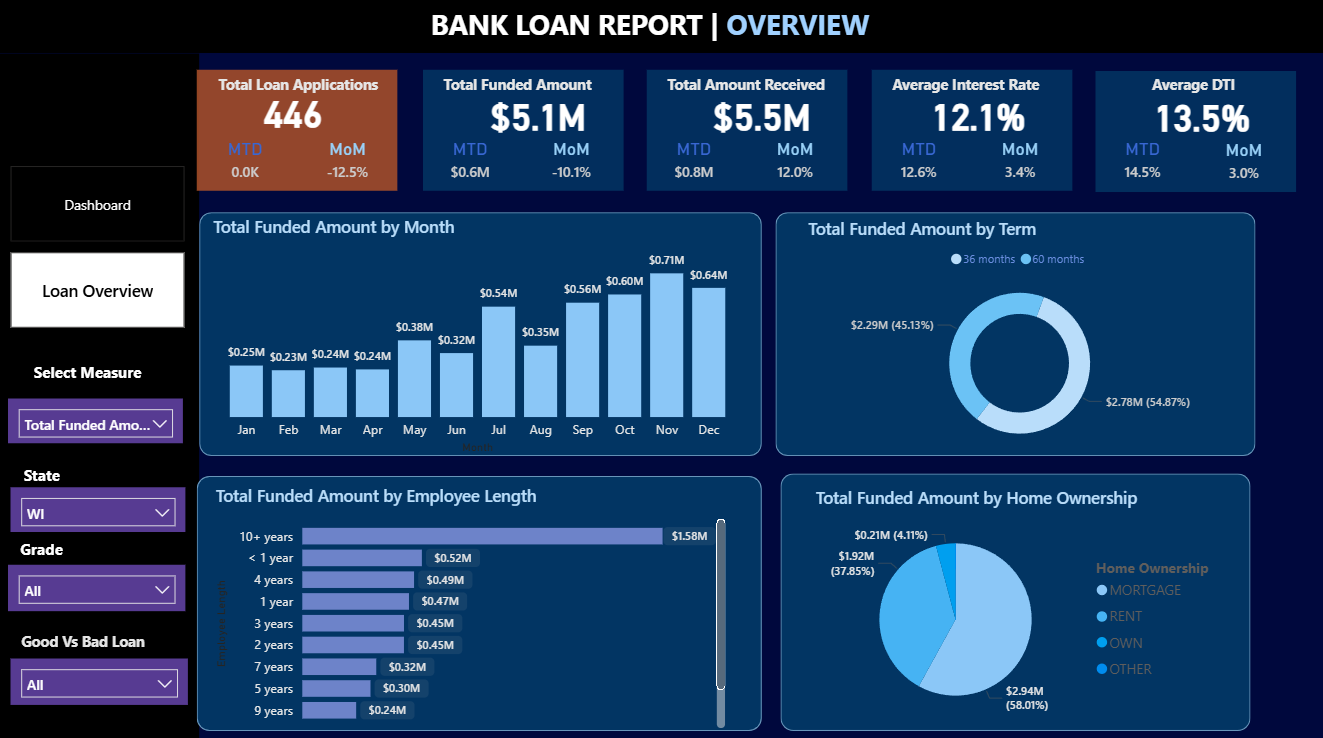

What the dashboard file says about the page in this screenshot:
{"tool":"powerbi","page":{"name":"Loan Overview","canvas":[1280,720],"ordinal":1},"visuals":[{"type":"shape","box":[0,55.5,194.2,664.5],"z":0},{"type":"shape","box":[410.2,71.3,193.7,117],"z":0,"group":"g3"},{"type":"shape","box":[626.7,71.3,193.7,117],"z":0,"group":"g4"},{"type":"shape","box":[843.2,71.3,193.7,117],"z":0,"group":"g5"},{"type":"shape","box":[192.3,71.4,193.7,117],"z":0,"group":"g1"},{"type":"shape","box":[1059.7,71.9,193.7,117],"z":0,"group":"g6"},{"type":"shape","box":[0,0,1280.3,55],"z":1000},{"type":"card","fields":{"Values":["bank_loan_data.Total Loan Application"]},"box":[228.8,76.7,113.6,69.9],"z":1000,"group":"g1"},{"type":"card","fields":{"Values":["bank_loan_data.Total Funded Amount"]},"box":[447.1,82,147.9,64.6],"z":1000,"group":"g3"},{"type":"card","fields":{"Values":["bank_loan_data.Total Amount Received"]},"box":[663.6,82,147.9,64.6],"z":1000,"group":"g4"},{"type":"card","fields":{"Values":["bank_loan_data.Avg Interest Rate"]},"box":[872.1,82.5,147.9,64.6],"z":1000,"group":"g5"},{"type":"card","fields":{"Values":["bank_loan_data.Avg DTI"]},"box":[1088.6,83.1,147.9,64.6],"z":1000,"group":"g6"},{"type":"textbox","box":[204.7,71.3,197.8,40.3],"z":2000,"group":"g1"},{"type":"textbox","box":[420.9,71.3,197.8,40.3],"z":2000,"group":"g3"},{"type":"textbox","box":[637.4,71.3,197.8,40.3],"z":2000,"group":"g4"},{"type":"textbox","box":[853.9,71.3,197.8,40.3],"z":2000,"group":"g5"},{"type":"textbox","box":[1070.1,71.3,169.4,40.3],"z":2000,"group":"g6"},{"type":"textbox","box":[21.7,347.3,136.3,41],"z":2000,"group":"g8"},{"type":"textbox","box":[12.1,447.4,95.3,31.4],"z":2000,"group":"g7"},{"type":"textbox","box":[12.1,517.4,83.2,31.4],"z":2000},{"type":"card","title":"MTD","fields":{"Values":["bank_loan_data.MTD Loan Applications"]},"box":[204.7,137.2,69.5,51.1],"z":3000,"group":"g1"},{"type":"card","title":"MTD","fields":{"Values":["bank_loan_data.MTD Funded Applications"]},"box":[420.9,137.2,69.5,51.1],"z":3000,"group":"g3"},{"type":"card","title":"MTD","fields":{"Values":["bank_loan_data.MTD Total Amount Received"]},"box":[637.4,137.2,69.5,51.1],"z":3000,"group":"g4"},{"type":"card","title":"MTD","fields":{"Values":["bank_loan_data.MTD Average Interest Rate"]},"box":[853.9,137.2,69.5,51.1],"z":3000,"group":"g5"},{"type":"card","title":"MTD","fields":{"Values":["bank_loan_data.MTD Average DTI"]},"box":[1070.4,137.8,69.5,51.1],"z":3000,"group":"g6"},{"type":"textbox","box":[9.6,607.8,156.8,31.4],"z":3000},{"type":"group","id":"g1","title":"Group 2","box":[192.3,71.3,210.2,117.1],"z":3005,"group":"g2"},{"type":"card","title":"MoM","fields":{"Values":["bank_loan_data.MoM Loan Applications"]},"box":[303,138.2,69.5,49.8],"z":4000,"group":"g1"},{"type":"card","title":"MoM","fields":{"Values":["bank_loan_data.MoM Total Funded Amount"]},"box":[519.1,138.2,69.5,49.8],"z":4000,"group":"g3"},{"type":"card","title":"MoM","fields":{"Values":["bank_loan_data.MoM Total Amount Received"]},"box":[735.6,138.2,69.5,49.8],"z":4000,"group":"g4"},{"type":"card","title":"MoM","fields":{"Values":["bank_loan_data.MoM Average Interest Rate"]},"box":[952.1,138.2,69.5,49.8],"z":4000,"group":"g5"},{"type":"card","title":"MoM","fields":{"Values":["bank_loan_data.MoM Average DTI"]},"box":[1168.6,138.9,69.5,49.8],"z":4000,"group":"g6"},{"type":"shape","box":[194.2,208.7,542.9,235.3],"z":4000},{"type":"textbox","box":[412.9,4,520.4,45.7],"z":6000},{"type":"group","id":"g2","title":"Group 1","box":[192.3,71.3,210.2,117.1],"z":7000},{"type":"group","id":"g3","title":"Group 2","box":[410.2,71.3,208.4,117],"z":8000},{"type":"group","id":"g4","title":"Group 2","box":[626.7,71.3,208.4,117],"z":9000},{"type":"group","id":"g5","title":"Group 2","box":[843.2,71.3,208.4,117],"z":10000},{"type":"group","id":"g6","title":"Group 2","box":[1059.7,71.3,193.7,117],"z":11000},{"type":"slicer","fields":{"Values":["bank_loan_data.address_state"]},"box":[12.1,474,168.8,43.4],"z":12000},{"type":"slicer","fields":{"Values":["bank_loan_data.grade"]},"box":[9.6,548.7,171.3,44.6],"z":13000},{"type":"slicer","fields":{"Values":["bank_loan_data.Good Vs Bad Loan"]},"box":[12.1,639.2,171.3,44.6],"z":14000},{"type":"group","id":"g7","title":"Group 2","box":[12.1,447.4,95.3,31.4],"z":15000},{"type":"columnChart","fields":{"Y":["bank_loan_data.Total Funded Amount"],"Category":["Date Table.Month"]},"box":[202.7,211.1,521.2,235.3],"z":16000},{"type":"slicer","fields":{"Values":["Select Measure.Select Measure"]},"box":[9.6,388.3,168.8,43.4],"z":17000},{"type":"group","id":"g8","title":"Group 2","box":[21.7,347.3,136.3,41],"z":18000},{"type":"shape","box":[750.4,208.7,463.3,235.3],"z":20000},{"type":"pieChart","fields":{"Y":["bank_loan_data.Total Funded Amount"],"Category":["bank_loan_data.term"]},"box":[776.9,213.5,418.6,232.8],"z":21000},{"type":"shape","box":[191.8,463.3,545.3,246.1],"z":22000},{"type":"barChart","fields":{"Y":["bank_loan_data.Total Funded Amount"],"Category":["bank_loan_data.emp_length"]},"box":[205.1,470.5,501.9,241.3],"z":23000},{"type":"shape","box":[755.2,460.9,453.6,248.5],"z":26000},{"type":"pieChart","fields":{"Category":["bank_loan_data.home_ownership"],"Y":["bank_loan_data.Total Funded Amount"]},"box":[784.2,472.9,405.4,236.5],"z":27000},{"type":"pageNavigator","box":[12.1,164,168.8,158],"z":28000}]}

Visuals, with their boxes in screenshot pixels (x1, y1, x2, y2), scaled from the page's 1280x720 canvas onto the 1323x738 screenshot:
shape: detection(0, 57, 201, 737)
shape: detection(424, 73, 624, 193)
shape: detection(648, 73, 848, 193)
shape: detection(872, 73, 1072, 193)
shape: detection(199, 73, 399, 193)
shape: detection(1095, 74, 1296, 194)
shape: detection(0, 0, 1322, 56)
card - bank_loan_data.Total Loan Application: detection(236, 79, 354, 150)
card - bank_loan_data.Total Funded Amount: detection(462, 84, 615, 150)
card - bank_loan_data.Total Amount Received: detection(686, 84, 839, 150)
card - bank_loan_data.Avg Interest Rate: detection(901, 85, 1054, 151)
card - bank_loan_data.Avg DTI: detection(1125, 85, 1278, 151)
textbox: detection(212, 73, 416, 114)
textbox: detection(435, 73, 639, 114)
textbox: detection(659, 73, 863, 114)
textbox: detection(883, 73, 1087, 114)
textbox: detection(1106, 73, 1281, 114)
textbox: detection(22, 356, 163, 398)
textbox: detection(13, 459, 111, 491)
textbox: detection(13, 530, 99, 563)
"MTD" card: detection(212, 141, 283, 193)
"MTD" card: detection(435, 141, 507, 193)
"MTD" card: detection(659, 141, 731, 193)
"MTD" card: detection(883, 141, 954, 193)
"MTD" card: detection(1106, 141, 1178, 194)
textbox: detection(10, 623, 172, 655)
"Group 2" group: detection(199, 73, 416, 193)
"MoM" card: detection(313, 142, 385, 193)
"MoM" card: detection(537, 142, 608, 193)
"MoM" card: detection(760, 142, 832, 193)
"MoM" card: detection(984, 142, 1056, 193)
"MoM" card: detection(1208, 142, 1280, 193)
shape: detection(201, 214, 762, 455)
textbox: detection(427, 4, 965, 51)
"Group 1" group: detection(199, 73, 416, 193)
"Group 2" group: detection(424, 73, 639, 193)
"Group 2" group: detection(648, 73, 863, 193)
"Group 2" group: detection(872, 73, 1087, 193)
"Group 2" group: detection(1095, 73, 1296, 193)
slicer - bank_loan_data.address_state: detection(13, 486, 187, 530)
slicer - bank_loan_data.grade: detection(10, 562, 187, 608)
slicer - bank_loan_data.Good Vs Bad Loan: detection(13, 655, 190, 701)
"Group 2" group: detection(13, 459, 111, 491)
columnChart - bank_loan_data.Total Funded Amount x Date Table.Month: detection(210, 216, 748, 458)
slicer - Select Measure.Select Measure: detection(10, 398, 184, 442)
"Group 2" group: detection(22, 356, 163, 398)
shape: detection(776, 214, 1254, 455)
pieChart - bank_loan_data.Total Funded Amount x bank_loan_data.term: detection(803, 219, 1236, 457)
shape: detection(198, 475, 762, 727)
barChart - bank_loan_data.Total Funded Amount x bank_loan_data.emp_length: detection(212, 482, 731, 730)
shape: detection(781, 472, 1249, 727)
pieChart - bank_loan_data.home_ownership x bank_loan_data.Total Funded Amount: detection(811, 485, 1230, 727)
pageNavigator: detection(13, 168, 187, 330)
